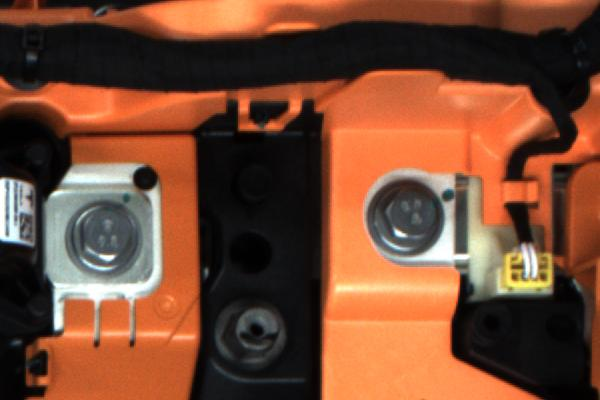nut_b: (363, 172, 447, 275), (62, 196, 143, 280)
